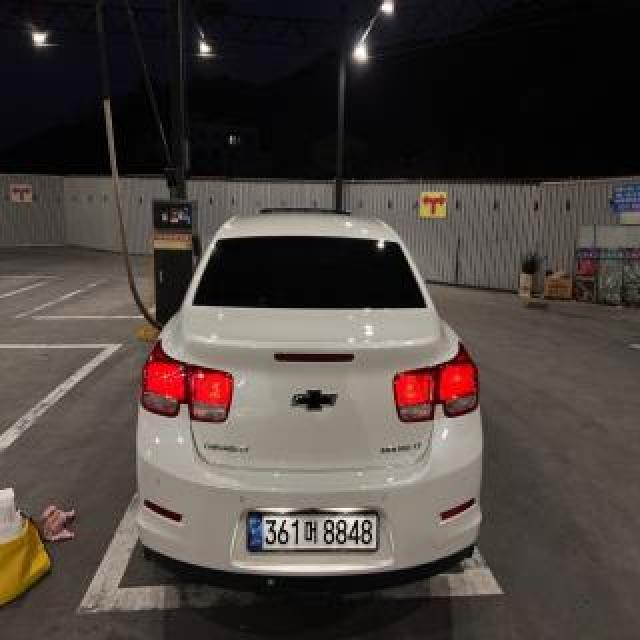car: (124, 200, 494, 598)
illegal_plate: (249, 508, 378, 561)
